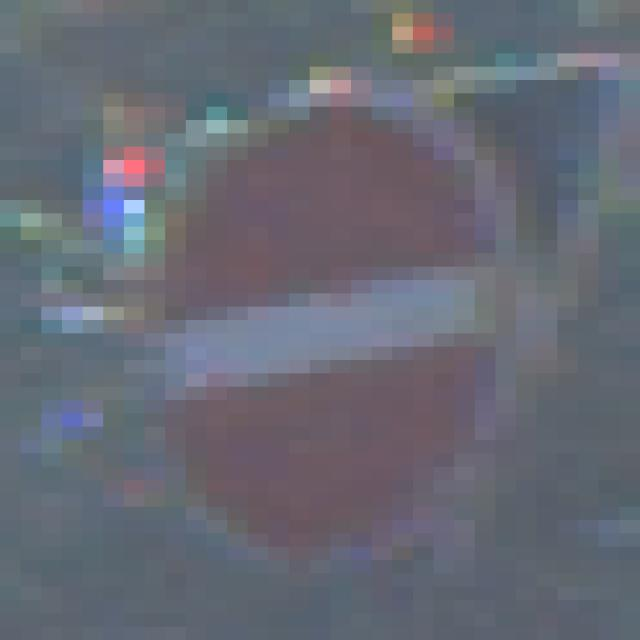No Entry: (104, 68, 538, 574)
